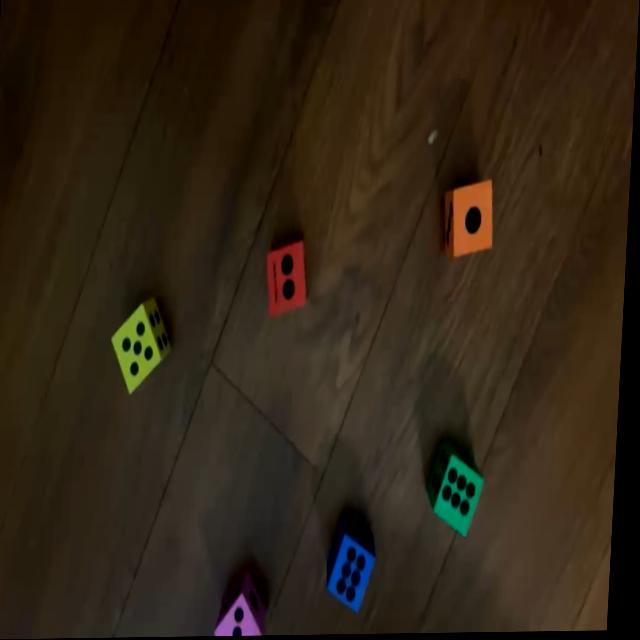cube: (427, 437, 490, 542), (329, 509, 384, 613), (264, 240, 314, 317)
